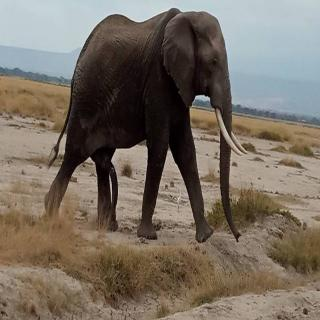Elephant: (43, 6, 257, 262)
